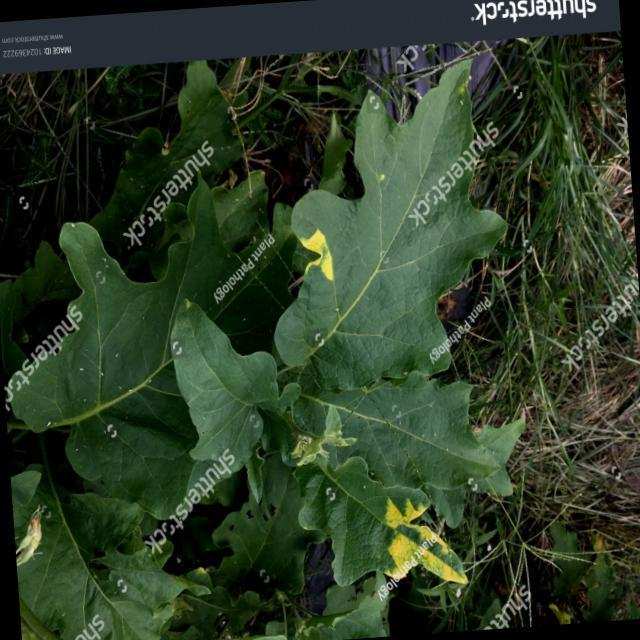Mosaic Virus: (363, 464, 468, 600), (276, 192, 364, 312)
